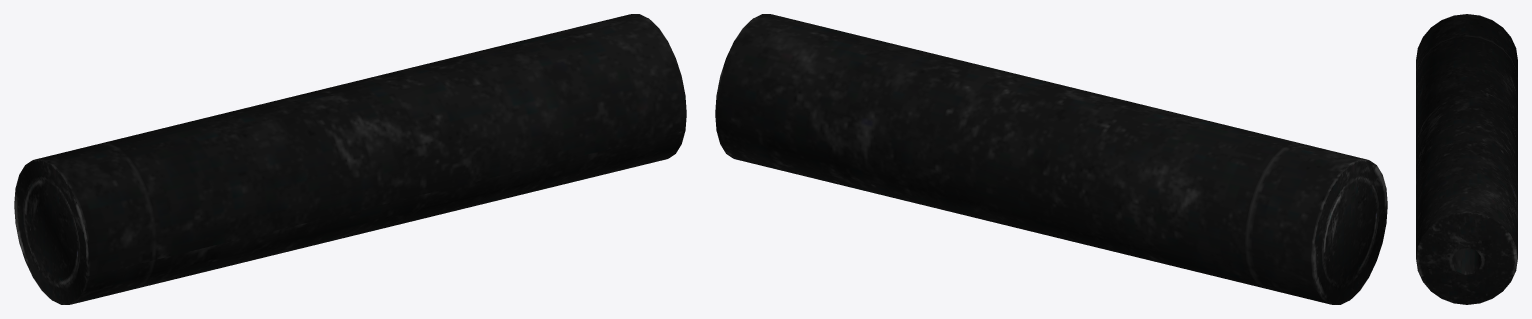
Rendered from ST_Muzzle_Suppressor_SR.FBX.
3 views of the same model, side by side, from view 1: azimuth 30°, elevation 25°; view 2: azimuth 150°, elevation 25°; view 3: azimuth 270°, elevation 25° (orthographic). The views are drawn at different scales.
Parts seen in each view (by area): view 1: ST_Muzzle_Suppressor_SR; view 2: ST_Muzzle_Suppressor_SR; view 3: ST_Muzzle_Suppressor_SR.
Part boxes in pixels (left/top/right/bottom): ST_Muzzle_Suppressor_SR: left=14, top=14, right=686, bottom=304; ST_Muzzle_Suppressor_SR: left=715, top=14, right=1387, bottom=304; ST_Muzzle_Suppressor_SR: left=1416, top=14, right=1517, bottom=304.
Size of the model in its own units: 21.19 by 4.54 by 4.54.
Materials: 1 (1 with a texture image).
